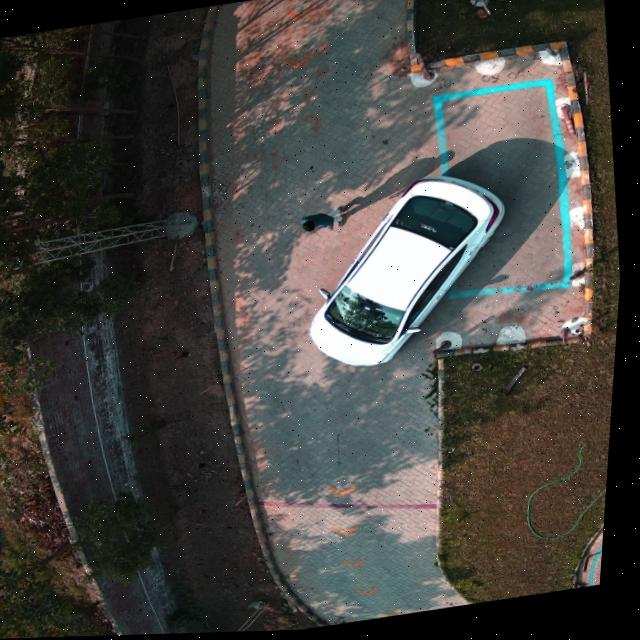car: (315, 179, 506, 367)
